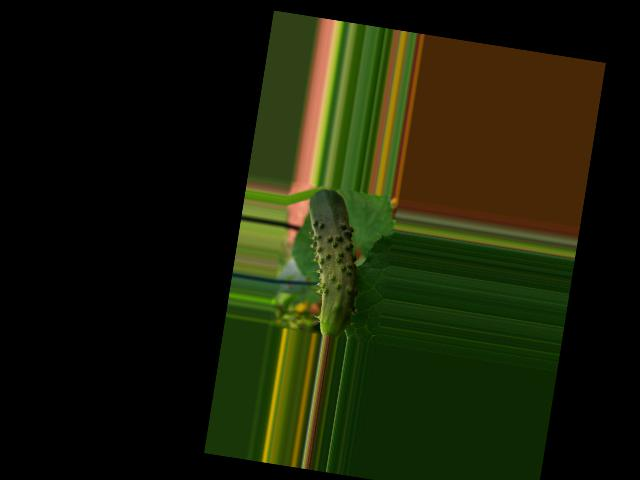cucumber: (290, 186, 373, 338)
